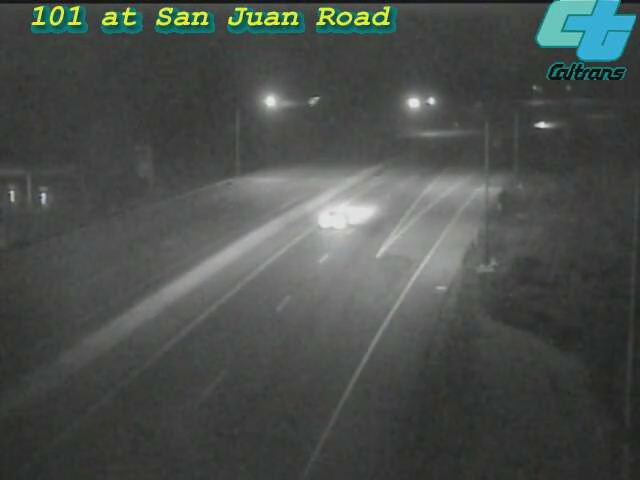vehicle: (286, 185, 366, 265), (516, 101, 566, 151)
